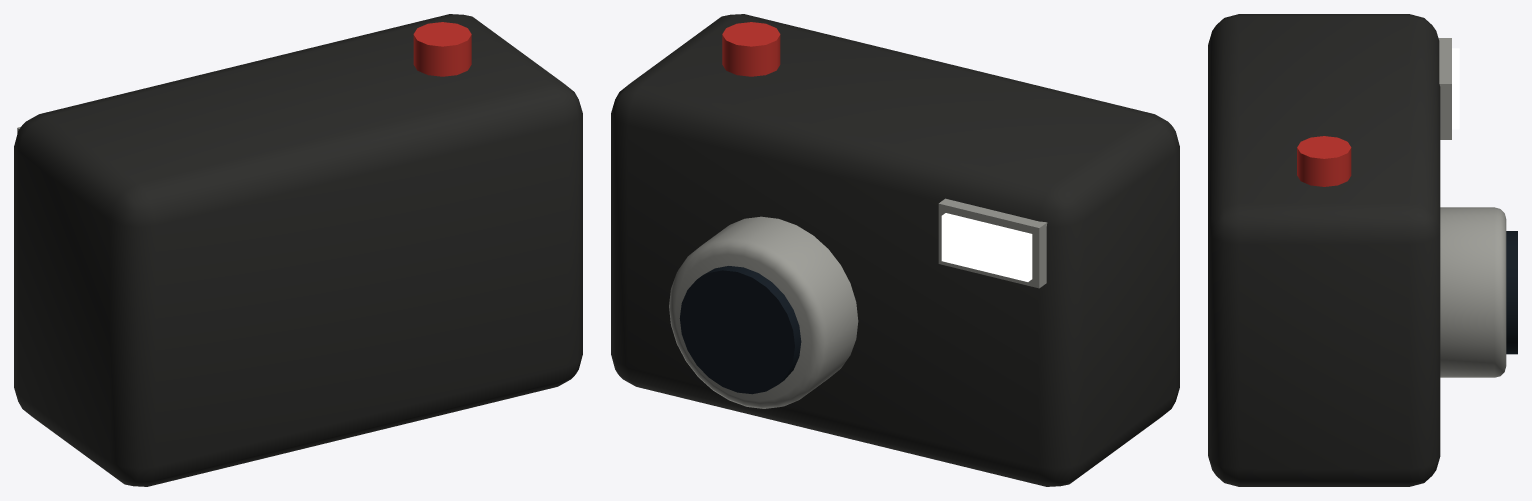
The model's file is camera.glb.
3 views of the same model, side by side, from view 1: azimuth 30°, elevation 25°; view 2: azimuth 150°, elevation 25°; view 3: azimuth 270°, elevation 25° (orthographic). The views are drawn at different scales.
Visible parts, largest first — view 1: body, button; view 2: body, lens, glass, flash, button; view 3: body, lens, button, glass, flash.
Part boxes in pixels (x1,y1,x2,y2): body: (14, 14, 582, 486); button: (413, 22, 471, 76); body: (611, 14, 1179, 486); lens: (669, 198, 1047, 408); glass: (679, 266, 801, 394); flash: (941, 213, 1032, 281); button: (722, 22, 780, 76); body: (1208, 14, 1440, 486); lens: (1438, 38, 1506, 377); button: (1297, 136, 1351, 186); glass: (1506, 231, 1517, 354); flash: (1452, 48, 1459, 129).
Bounding box in the file's own units: 0.13 × 0.088 × 0.08.
